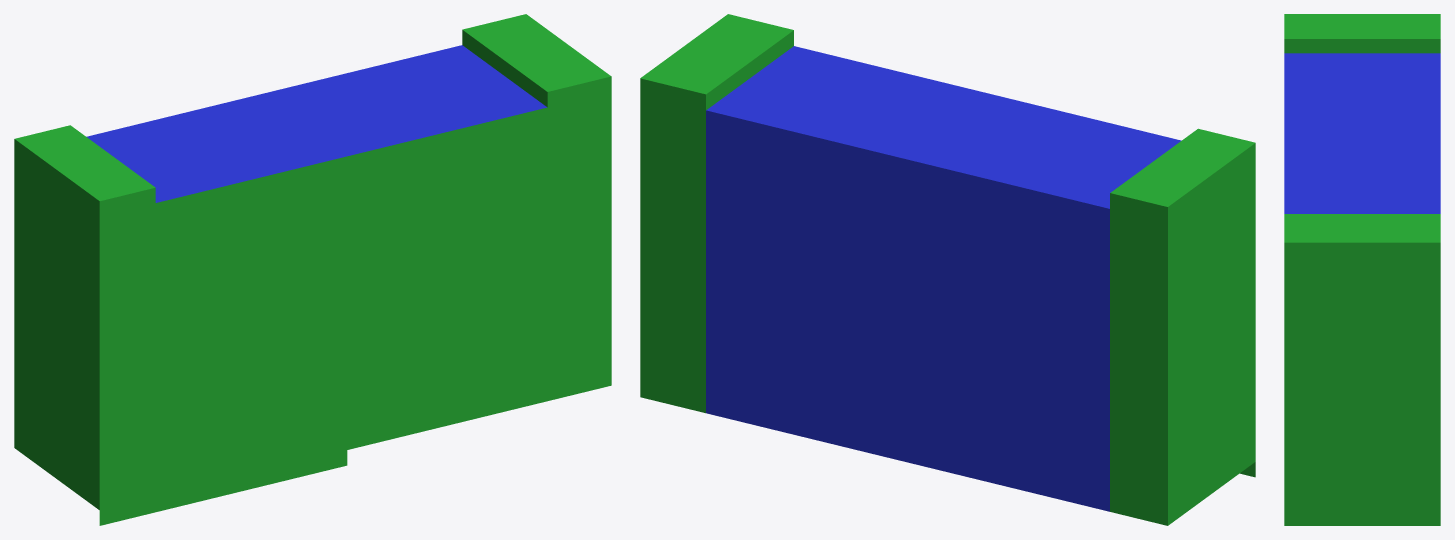
File: module-edge_river_cliff_right_002.glb
3 views of the same model, side by side, from view 1: azimuth 30°, elevation 25°; view 2: azimuth 150°, elevation 25°; view 3: azimuth 270°, elevation 25° (orthographic). The views are drawn at different scales.
Parts seen in each view (by area): view 1: module-edge_river_cliff_right_002; view 2: module-edge_river_cliff_right_002; view 3: module-edge_river_cliff_right_002.
Boxes of the visible parts, left/top/right/bottom form: module-edge_river_cliff_right_002: left=14, top=14, right=611, bottom=525; module-edge_river_cliff_right_002: left=640, top=14, right=1255, bottom=525; module-edge_river_cliff_right_002: left=1284, top=14, right=1440, bottom=525.
Bounding box in the file's own units: 0.866 × 0.525 × 0.25.
